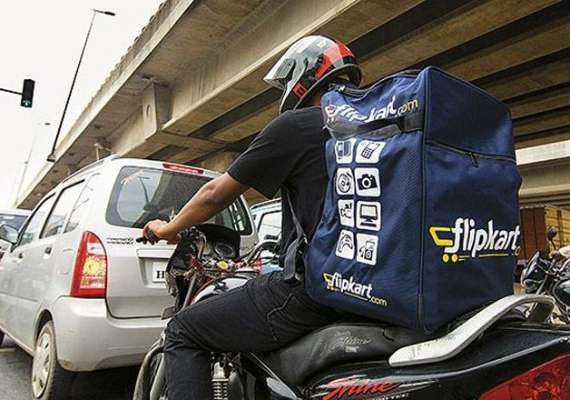helmet: (215, 13, 361, 321)
